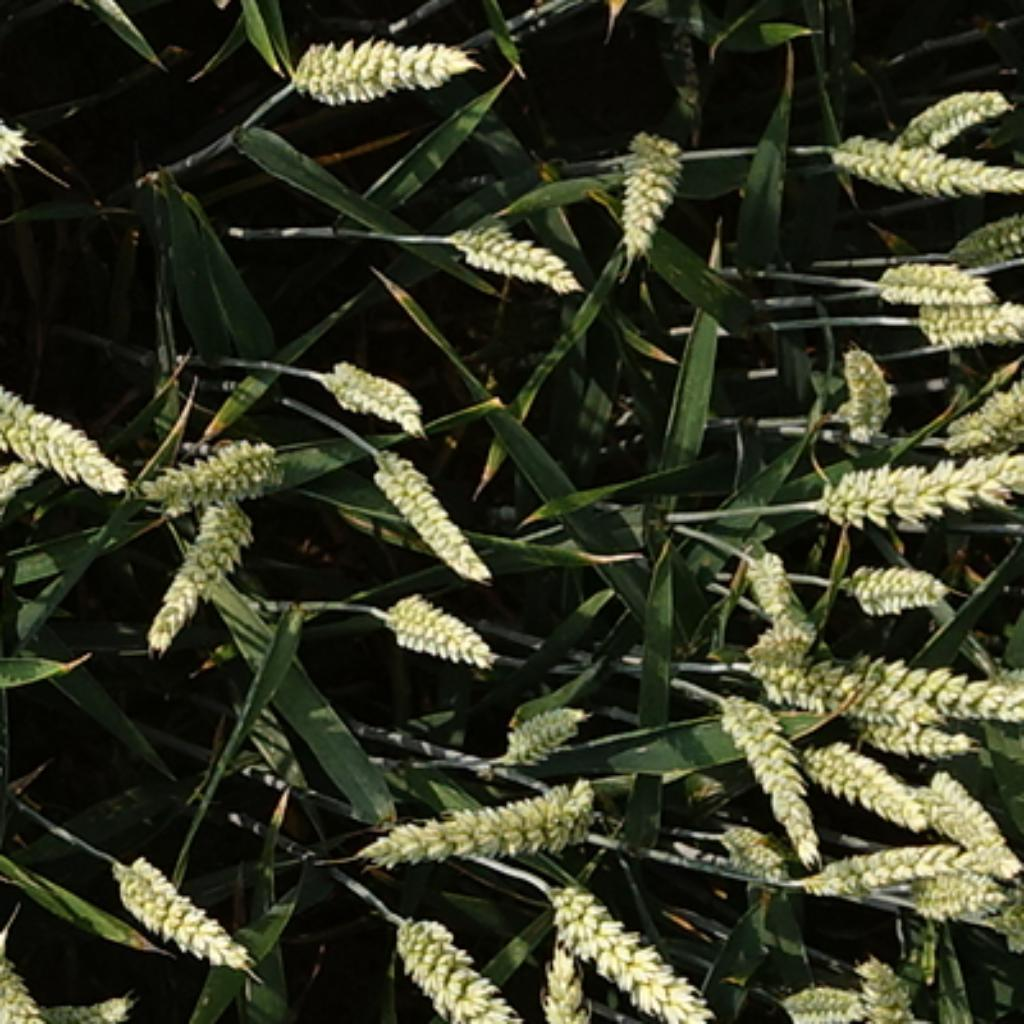0-0: (548, 877, 720, 1024), (796, 637, 1024, 737), (366, 785, 611, 875), (110, 849, 261, 977), (716, 691, 821, 870), (135, 506, 261, 652), (811, 442, 1024, 527), (368, 445, 494, 586), (284, 25, 483, 112), (390, 903, 531, 1024), (787, 829, 1011, 905), (0, 373, 122, 501), (742, 657, 944, 732), (138, 422, 291, 506), (826, 130, 1024, 194), (445, 212, 588, 294), (609, 128, 693, 266), (801, 732, 931, 821), (888, 261, 1018, 345), (378, 583, 499, 668), (919, 778, 1024, 875), (320, 355, 435, 435), (896, 92, 1013, 166), (867, 250, 1003, 312), (901, 279, 1024, 345), (939, 373, 1024, 453), (829, 335, 896, 435), (839, 558, 954, 616), (847, 716, 980, 762), (499, 691, 586, 760), (908, 878, 1024, 929), (709, 814, 788, 878), (852, 947, 921, 1018), (537, 934, 591, 1024), (949, 197, 1024, 261), (0, 934, 51, 1024), (12, 990, 143, 1024), (775, 977, 867, 1024), (737, 540, 796, 611), (744, 619, 829, 660), (834, 384, 903, 422)
